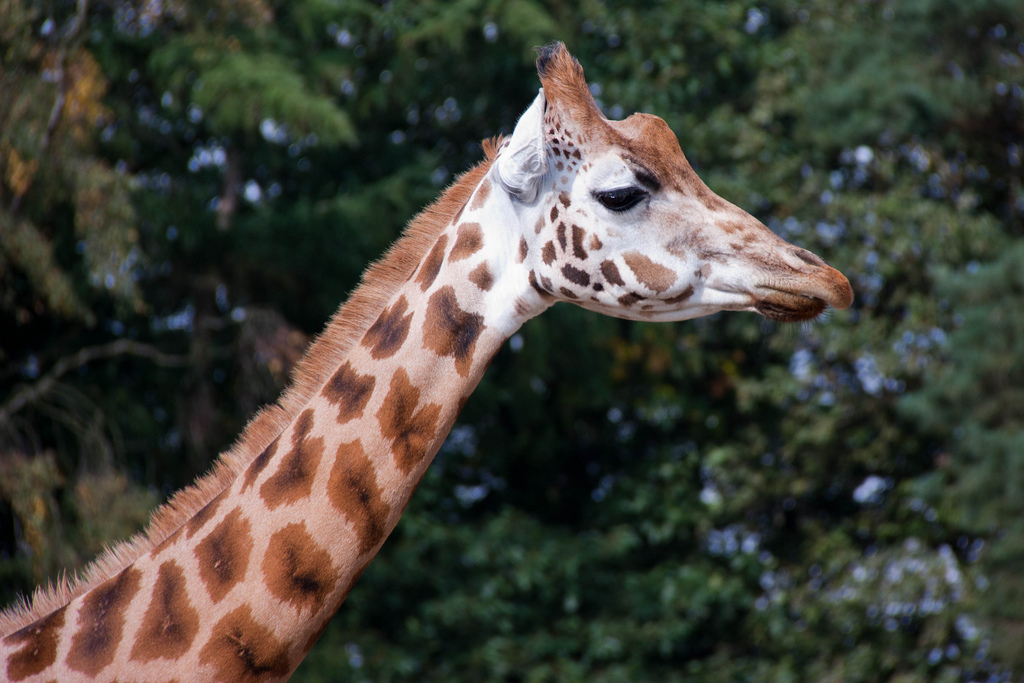giraffe: (50, 59, 882, 645)
